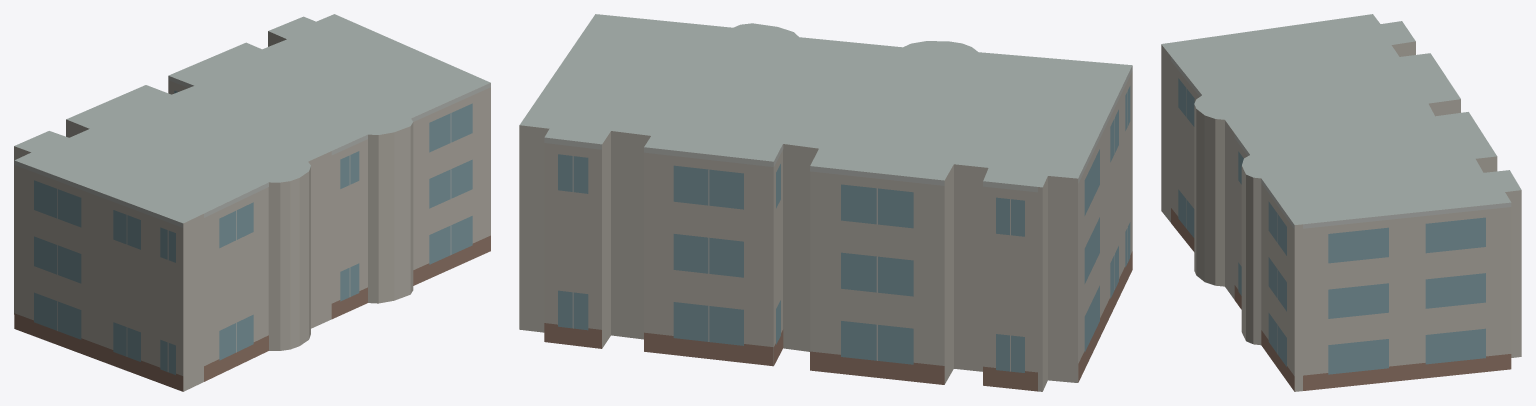
The model's file is survey-upis-32470595.glb.
3 views of the same model, side by side, from view 1: azimuth 30°, elevation 25°; view 2: azimuth 150°, elevation 25°; view 3: azimuth 270°, elevation 25° (orthographic). The views are drawn at different scales.
Visible parts, largest first — view 1: survey-upis-32470595.tmp; view 2: survey-upis-32470595.tmp; view 3: survey-upis-32470595.tmp.
Boxes of the visible parts, x1=… form: survey-upis-32470595.tmp: x1=14, y1=14, x2=490, y2=391; survey-upis-32470595.tmp: x1=519, y1=14, x2=1132, y2=391; survey-upis-32470595.tmp: x1=1161, y1=14, x2=1521, y2=391.
Bounding box in the file's own units: 24.85 × 9.15 × 17.93.
